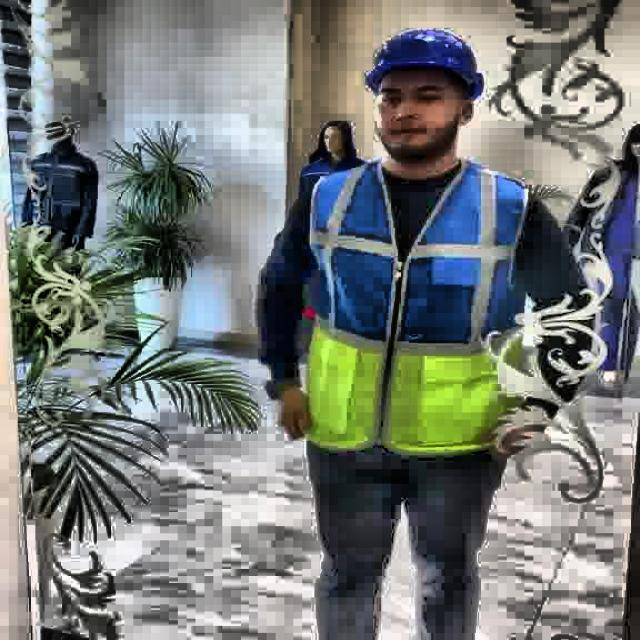safety_helmet: (365, 30, 487, 99)
safety_jacket: (308, 159, 536, 456)
